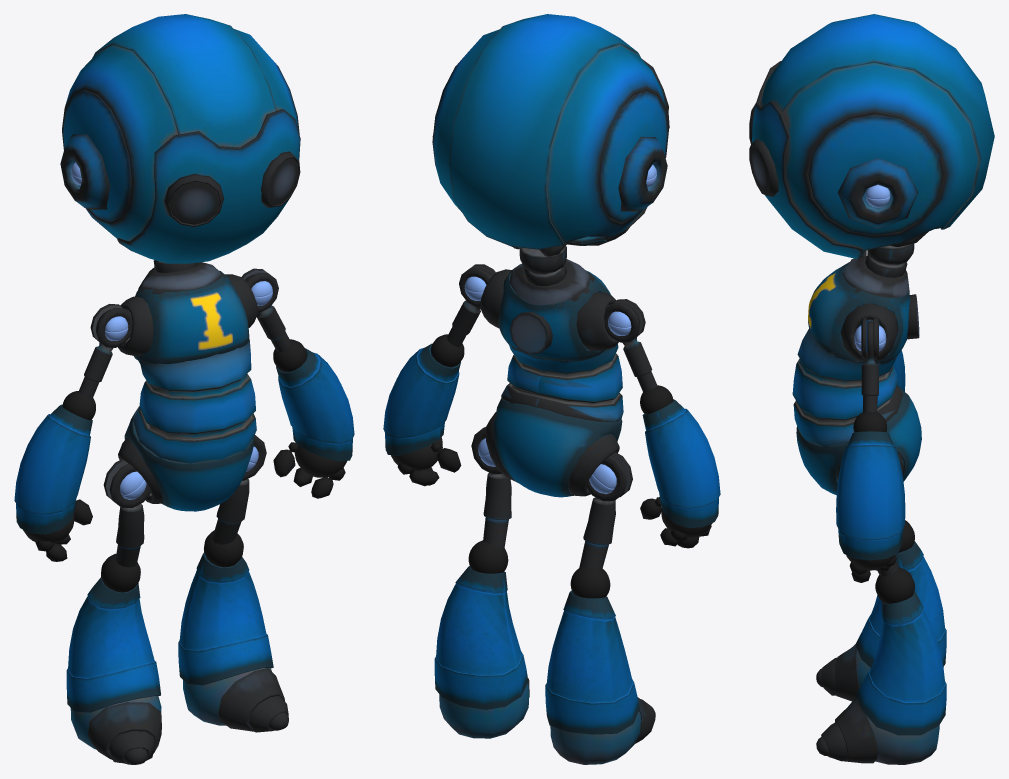
Rendered from blue_robo_two.glb.
3 renders of one model, left to right at view 1: azimuth 30°, elevation 25°; view 2: azimuth 150°, elevation 25°; view 3: azimuth 270°, elevation 25°, orthographic.
Visible parts, largest first — view 1: head, head_plate, middle_body, leg_down_right, leg_down_left, arm_down_right, chest, arm_down_left, lower_body, head_right_plate, ear_right, foot_part_2_right (+24 smaller); view 2: head, leg_down_right, leg_down_left, lower_body, arm_down_right, middle_body, arm_down_left, head_right_plate, chest, ear_right, foot_main_left, foot_main_right (+18 smaller); view 3: head, leg_down_left, head_left_plate, arm_down_left, middle_body, chest, head_plate, ear_left, lower_body, leg_down_right, foot_main_left, foot_part_2_left (+12 smaller).
Part boxes in pixels (box(x1,y1,x2,y2)): head: box(62, 14, 299, 241); head_plate: box(117, 109, 300, 263); middle_body: box(133, 339, 256, 463); leg_down_right: box(66, 577, 160, 712); leg_down_left: box(178, 552, 273, 685); arm_down_right: box(14, 404, 92, 534); chest: box(133, 270, 249, 364); arm_down_left: box(276, 348, 354, 461); lower_body: box(124, 406, 254, 511); head_right_plate: box(63, 89, 131, 222); ear_right: box(60, 134, 110, 210); foot_part_2_right: box(88, 702, 161, 762); head: box(432, 14, 668, 249); leg_down_right: box(545, 590, 639, 734); leg_down_left: box(434, 566, 528, 709); lower_body: box(493, 399, 622, 497); arm_down_right: box(642, 399, 720, 528); middle_body: box(501, 344, 623, 422); arm_down_left: box(383, 343, 460, 455); head_right_plate: box(599, 90, 667, 222); chest: box(498, 263, 610, 361); ear_right: box(618, 136, 667, 211); foot_main_left: box(439, 682, 529, 738); foot_main_right: box(550, 711, 641, 764); head: box(761, 14, 994, 256); leg_down_left: box(855, 590, 946, 735); head_left_plate: box(808, 114, 942, 235); arm_down_left: box(836, 431, 905, 560); middle_body: box(792, 320, 902, 447); chest: box(808, 262, 909, 364); head_plate: box(752, 61, 863, 259); ear_left: box(837, 158, 918, 228); lower_body: box(796, 387, 921, 494); leg_down_right: box(855, 541, 946, 667); foot_main_left: box(857, 700, 939, 764); foot_part_2_left: box(835, 698, 877, 763).
Size of the model in its own units: 0.5864 by 1.2 by 0.3809.
Materials: 1 (1 with a texture image).
